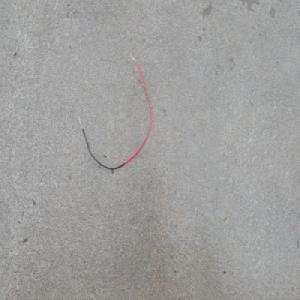Wire: (77, 52, 154, 172)
